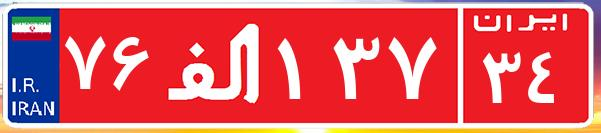1: (273, 28, 330, 110)
3: (330, 28, 385, 110), (475, 38, 525, 113)
4: (525, 38, 570, 115)
6: (110, 28, 158, 105)
7: (385, 28, 445, 110), (57, 26, 110, 107)
الف: (158, 15, 273, 115)
